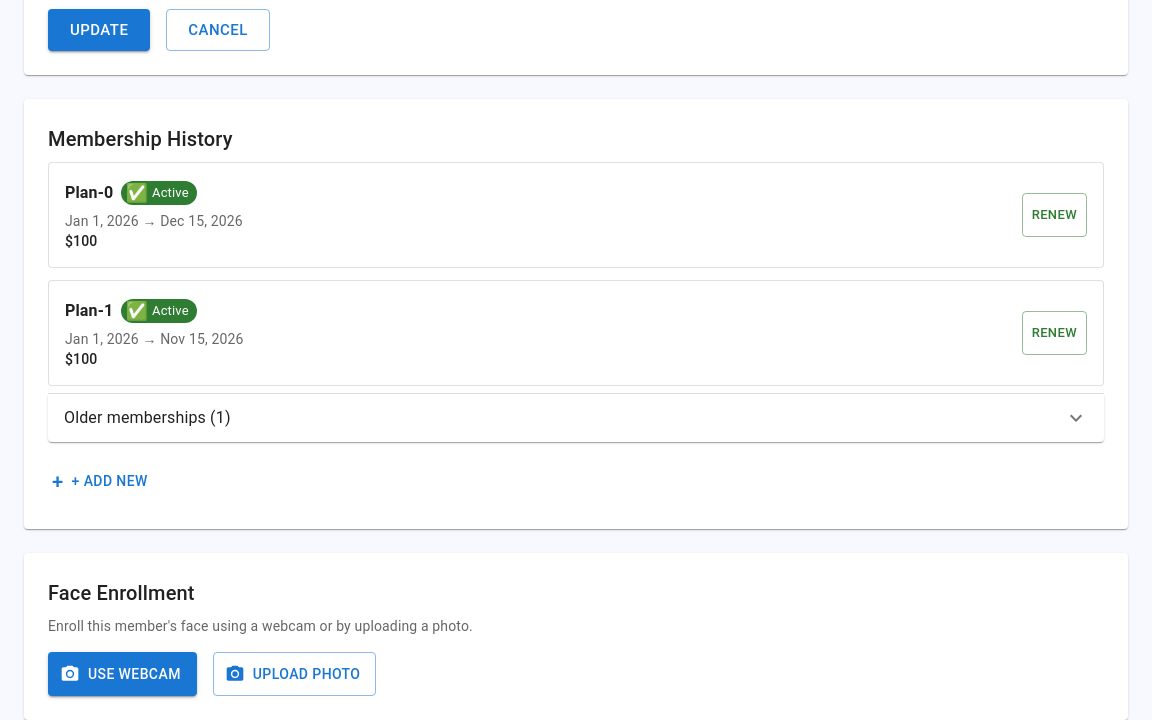
Test case: Membership accordion › keeps admin-only actions unavailable for a non-admin viewer
The width and height of the screenshot is (1152, 720).
(page scrolled)
Expected: the heading "Plan-0" is shown, [65, 179, 113, 207]
Click the button "Older memberships (1)" at (147, 418), box [64, 406, 1088, 430]
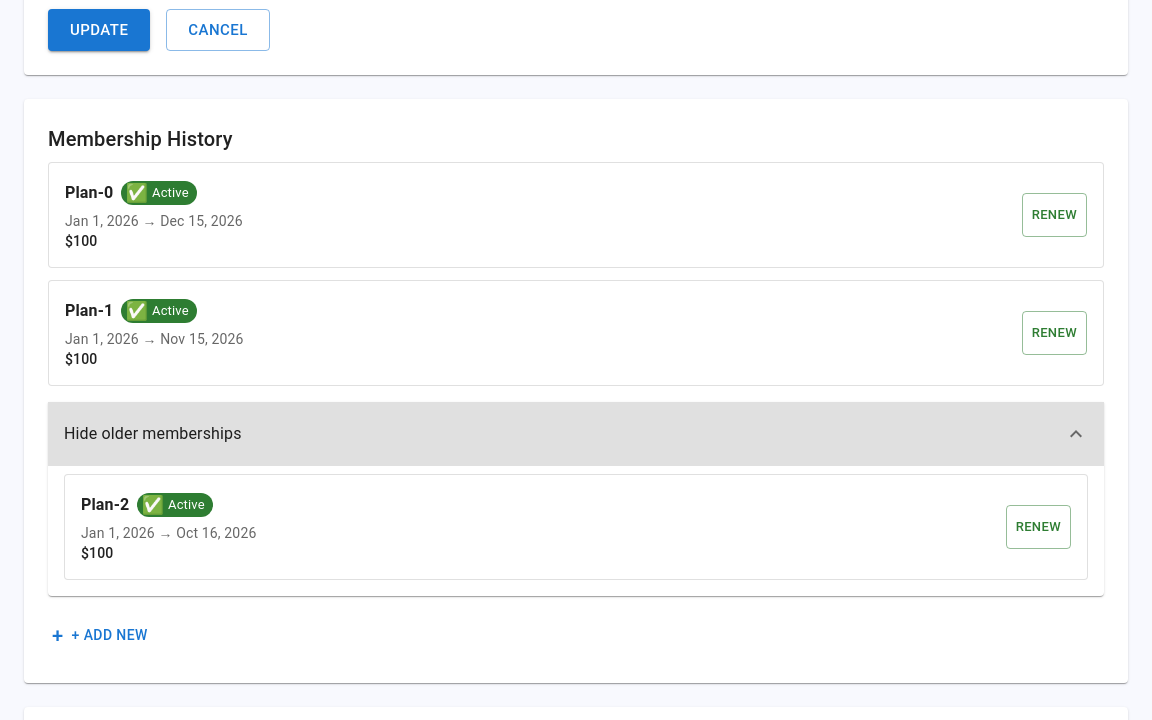
Now the heading "Plan-2" is shown, box [81, 491, 129, 519]
Now the number of buttons "Renew" is 3, box [1022, 193, 1087, 237]; [1022, 311, 1087, 355]; [1006, 505, 1071, 549]
